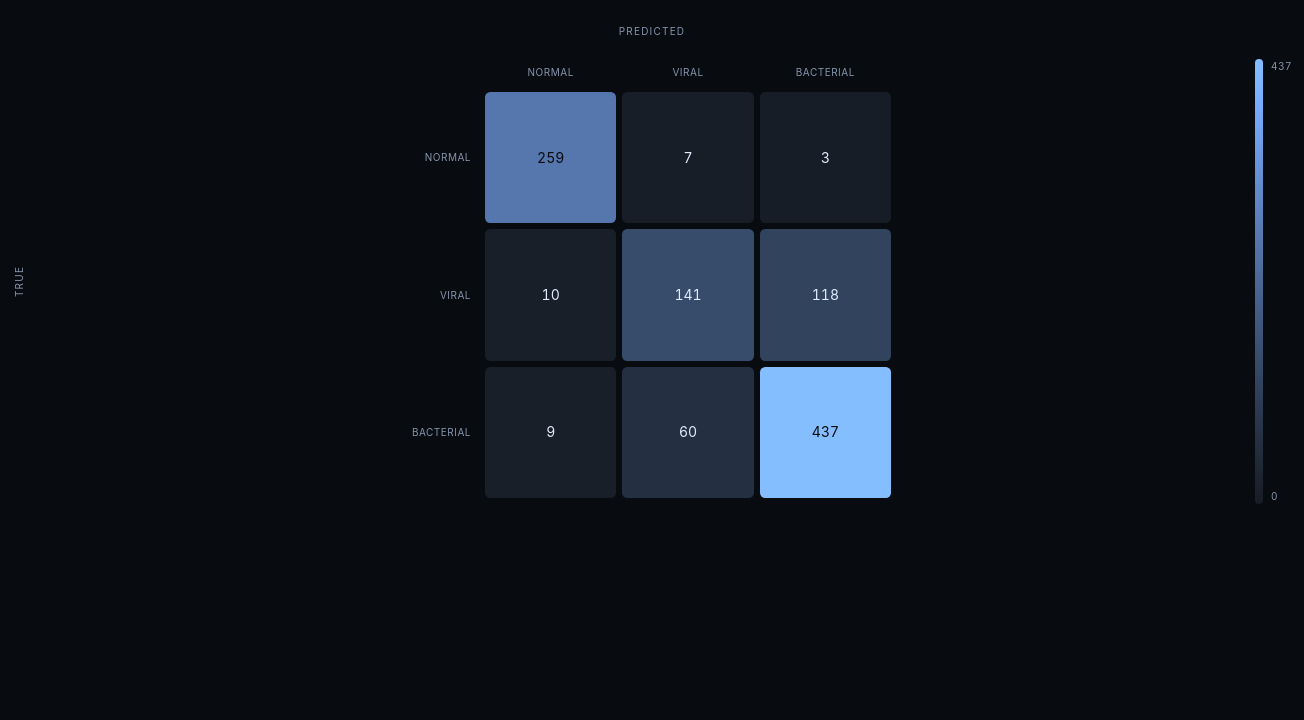
ConfusionMatrix › names the row, the column and the share on each cell
Hover over the button "118".
mouse_move(825, 295)  # box [760,229,891,361]
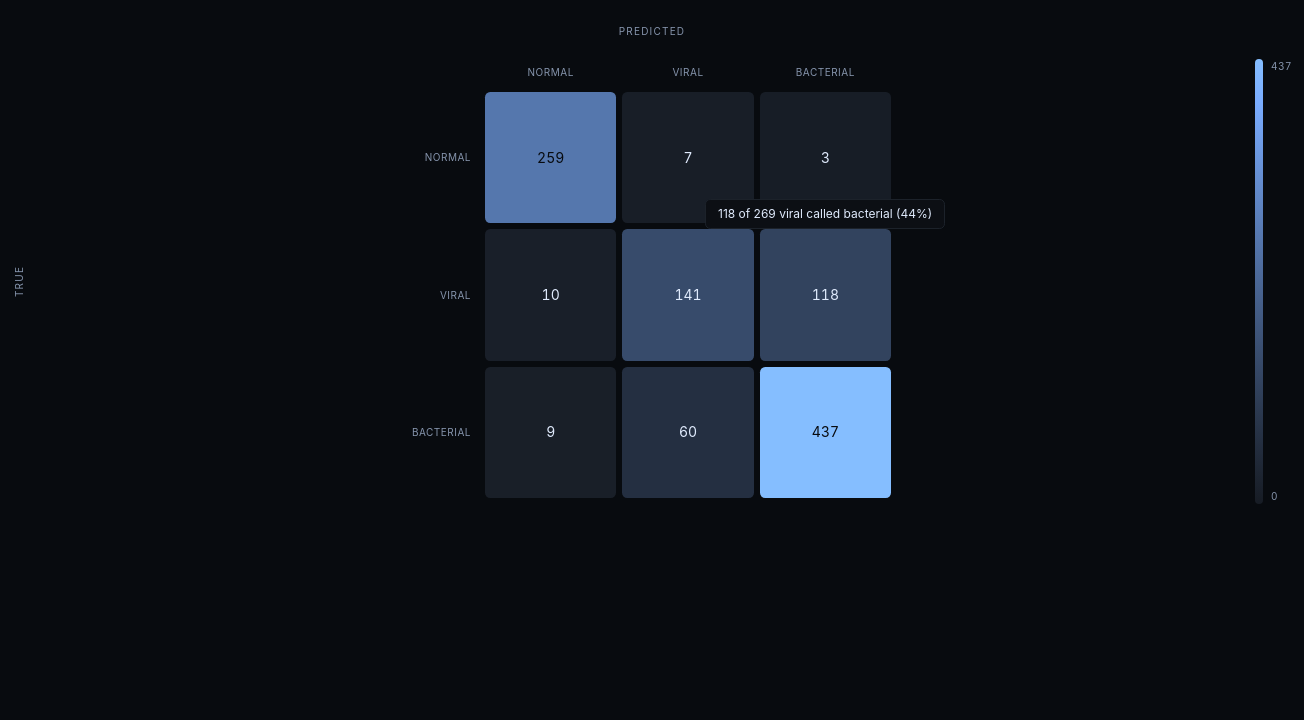
expect the tooltip reads "118 of 269 viral called bacterial (44%)": met, box [705,199,945,229]
